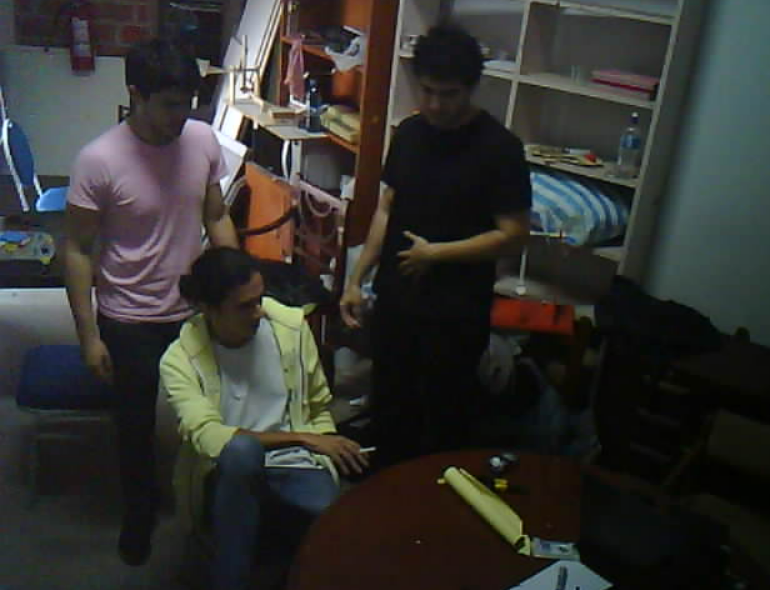person: (53, 25, 253, 558), (335, 15, 554, 435), (146, 237, 382, 590)
